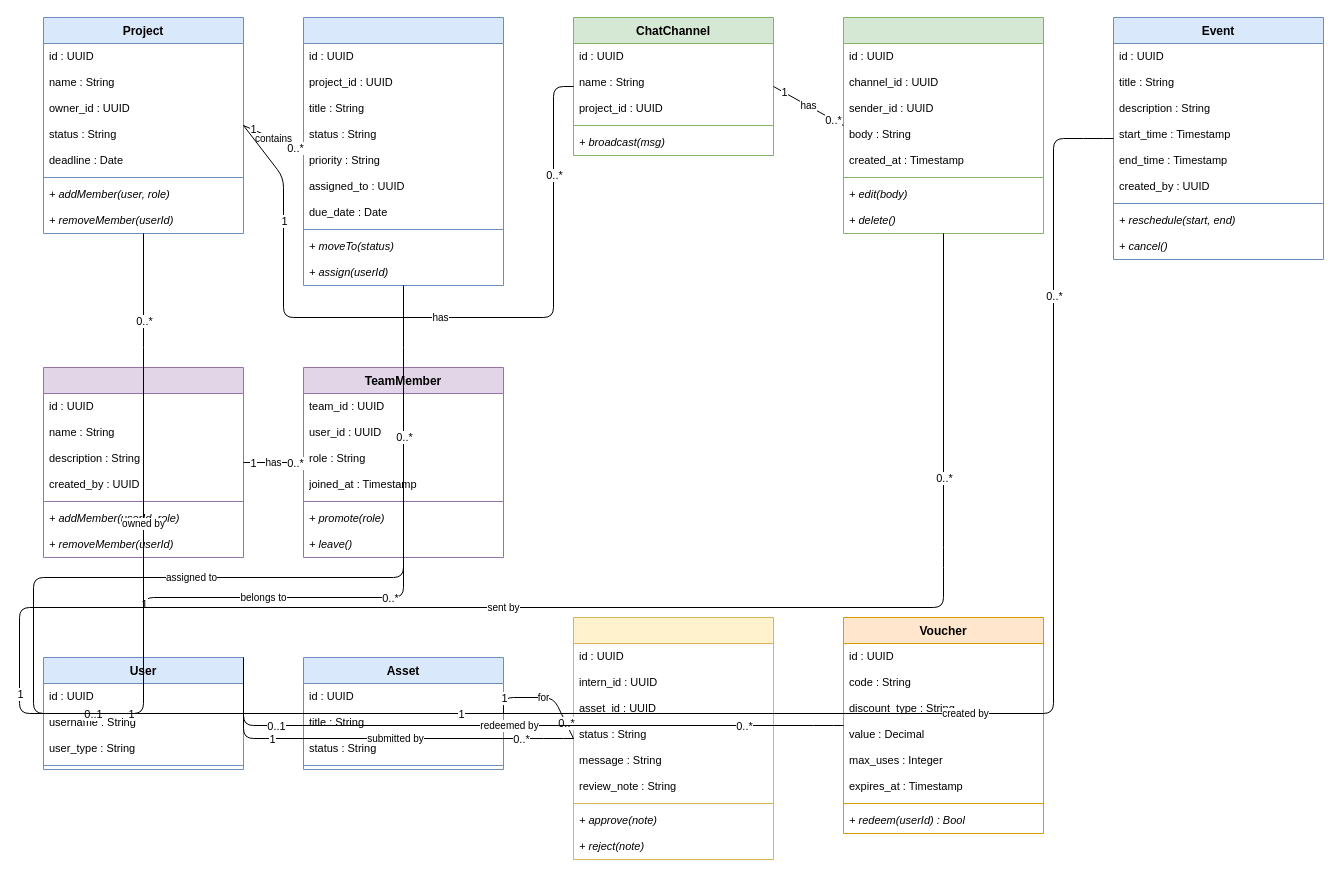
This 1341x880 diagram has some shape labels left out. The shapes that lost their labels are listed below. From the top down, each one's box as (x1, y1, x2, y2) in pixels, then its label:
(842, 16, 1044, 234): Message
(302, 16, 504, 286): WorkspaceTask
(42, 366, 244, 558): Team
(572, 616, 774, 860): InternAssetRequest
